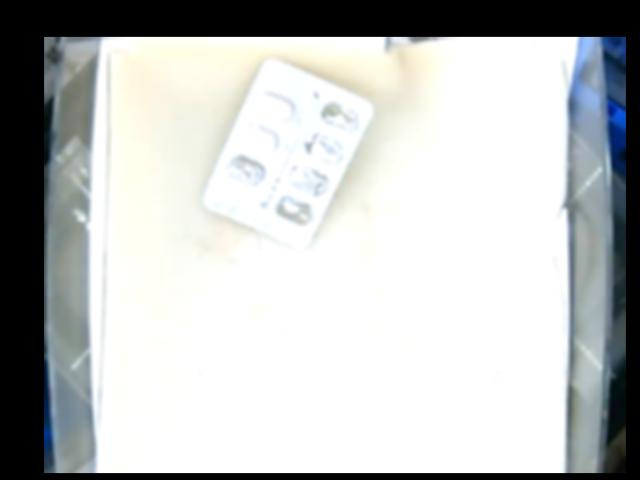Medicine: (197, 55, 374, 245)
